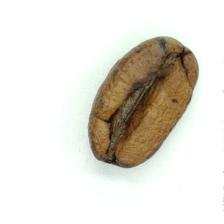NG: (100, 37, 173, 161)
